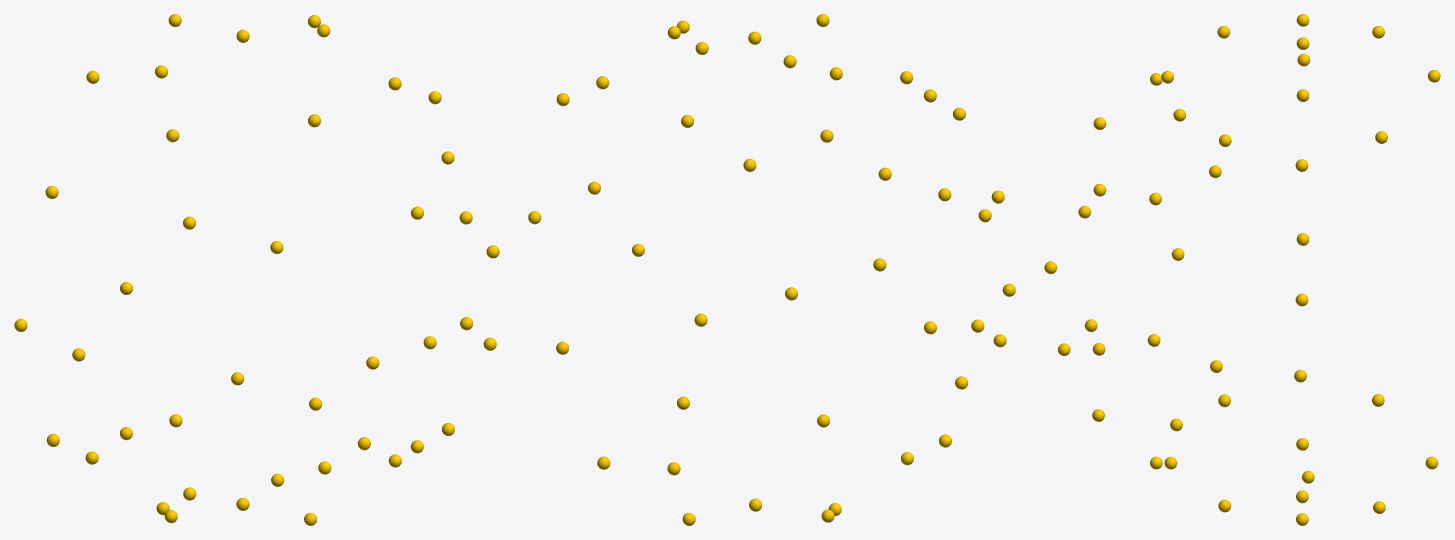
The model's file is electrones_p2.glb.
3 renders of one model, left to right at view 1: azimuth 30°, elevation 25°; view 2: azimuth 150°, elevation 25°; view 3: azimuth 270°, elevation 25°, orthographic. The views are drawn at different scales.
Parts seen in each view (by area): view 1: pSphere42; view 2: pSphere42; view 3: pSphere42.
Boxes of the visible parts, left/top/right/bottom form: pSphere42: left=14, top=14, right=499, bottom=525; pSphere42: left=528, top=14, right=1015, bottom=525; pSphere42: left=1044, top=14, right=1440, bottom=525.
Bounding box in the file's own units: 0.0203 × 0.0204 × 0.0158.
